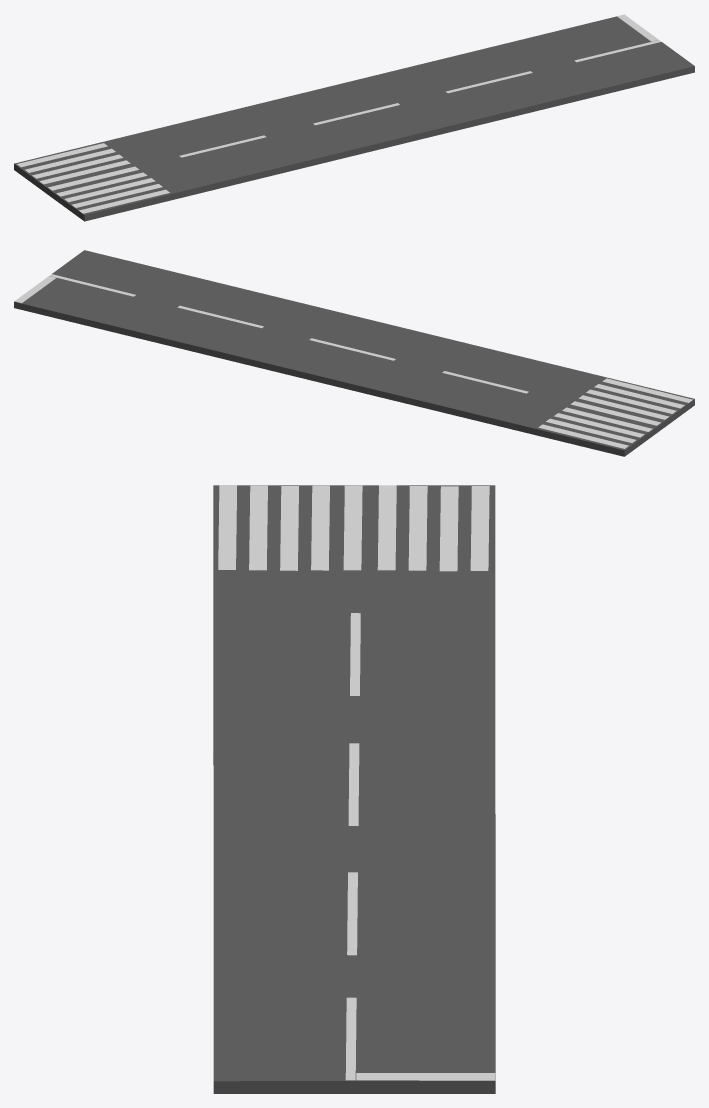
File: road_1_3.dae
3 views of the same model, one above another, from view 1: azimuth 30°, elevation 25°; view 2: azimuth 150°, elevation 25°; view 3: azimuth 270°, elevation 25° (orthographic). The views are drawn at different scales.
Visible parts, largest first — view 1: road_base_long, road_line_3; view 2: road_base_long, road_line_3; view 3: road_base_long, road_line_3.
Part boxes in pixels (box(x1,y1,x2,y2)): road_base_long: box(14, 16, 694, 221); road_line_3: box(17, 14, 661, 213); road_base_long: box(14, 250, 694, 456); road_line_3: box(14, 274, 692, 448); road_base_long: box(213, 485, 495, 1093); road_line_3: box(218, 485, 495, 1080).
Size of the model in its own units: 50 by 10.02 by 0.5184.
2 materials, 2 textured.
